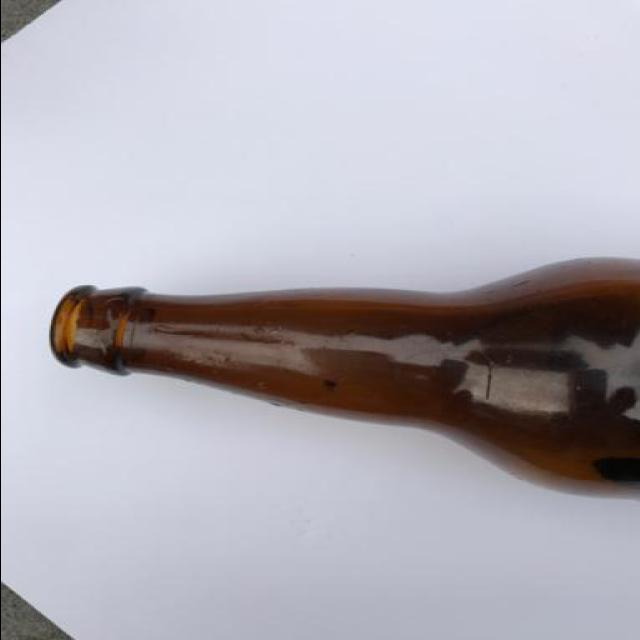Glass Bottle: (47, 262, 640, 505)
